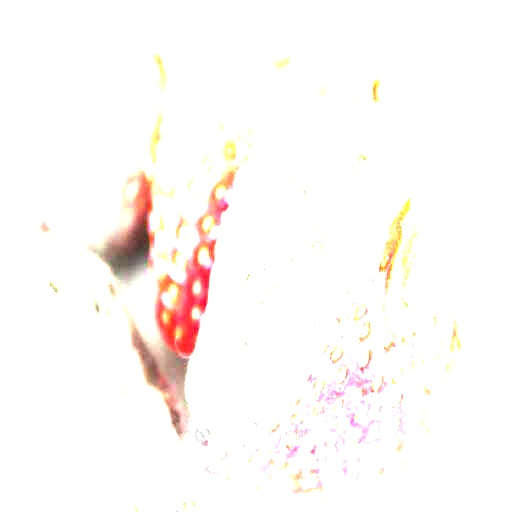Gray Mold: (184, 98, 458, 488), (0, 231, 211, 511), (178, 0, 331, 148)
